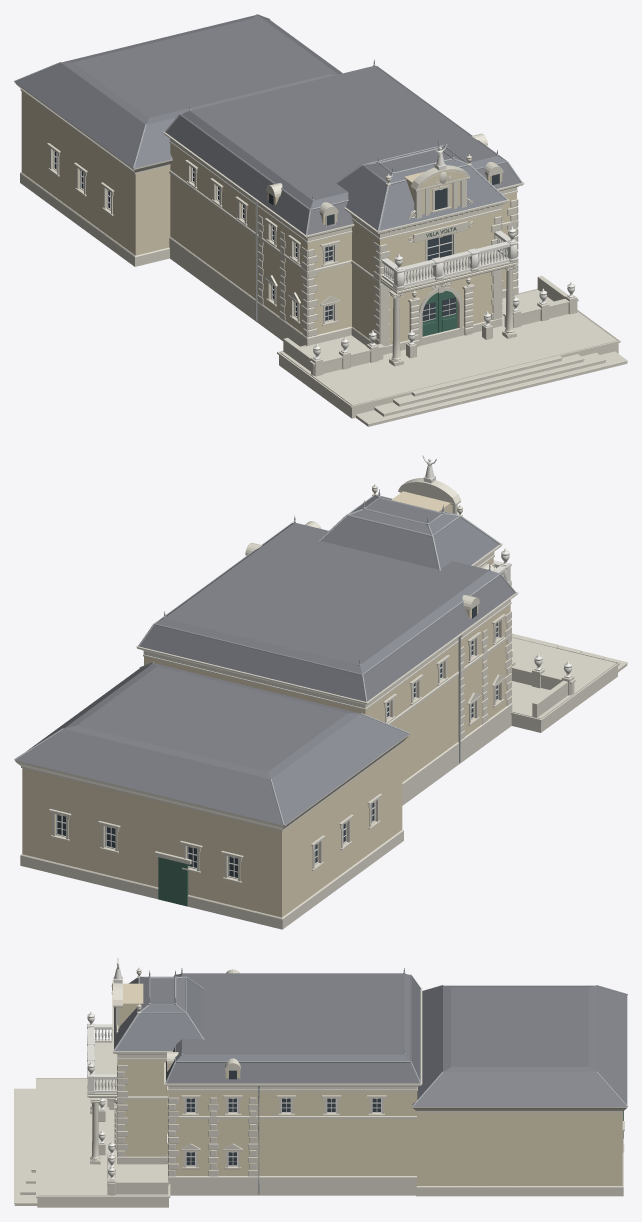
Rendered from AR_VillaVolta.fbx.
3 renders of one model, top to bottom at view 1: azimuth 30°, elevation 25°; view 2: azimuth 150°, elevation 25°; view 3: azimuth 270°, elevation 25°, orthographic. The views are drawn at different scales.
Parts seen in each view (by area): view 1: static__MAT_lei_0, static__MAT_steen_0, static__MAT_stuc_0, static__MAT_steen_2, static__MAT_steen_1, static__MAT_wit_1, static__MAT_zink_0, static__MAT_glas_0, static__MAT_kozijn_0, static__MAT_wit_0, static__MAT_groen_0; view 2: static__MAT_lei_0, static__MAT_stuc_0, static__MAT_steen_0, static__MAT_steen_2, static__MAT_steen_1, static__MAT_zink_0, static__MAT_groen_0, static__MAT_kozijn_0, static__MAT_glas_0; view 3: static__MAT_lei_0, static__MAT_stuc_0, static__MAT_steen_0, static__MAT_steen_2, static__MAT_zink_0, static__MAT_steen_1, static__MAT_wit_1, static__MAT_glas_0, static__MAT_kozijn_0, static__MAT_wit_0.
Part boxes in pixels (x1=…): static__MAT_lei_0: x1=15, y1=15, x2=520, y2=234; static__MAT_steen_0: x1=20, y1=170, x2=627, y2=426; static__MAT_stuc_0: x1=21, y1=91, x2=516, y2=344; static__MAT_steen_2: x1=15, y1=82, x2=524, y2=366; static__MAT_steen_1: x1=47, y1=143, x2=503, y2=347; static__MAT_wit_1: x1=381, y1=230, x2=517, y2=289; static__MAT_zink_0: x1=14, y1=14, x2=522, y2=320; static__MAT_glas_0: x1=54, y1=151, x2=499, y2=321; static__MAT_kozijn_0: x1=53, y1=151, x2=455, y2=322; static__MAT_wit_0: x1=313, y1=226, x2=574, y2=360; static__MAT_groen_0: x1=422, y1=291, x2=457, y2=336; static__MAT_lei_0: x1=15, y1=496, x2=514, y2=825; static__MAT_stuc_0: x1=22, y1=491, x2=510, y2=917; static__MAT_steen_0: x1=20, y1=562, x2=627, y2=929; static__MAT_steen_2: x1=15, y1=478, x2=518, y2=831; static__MAT_steen_1: x1=49, y1=614, x2=505, y2=883; static__MAT_zink_0: x1=14, y1=489, x2=516, y2=826; static__MAT_groen_0: x1=158, y1=857, x2=188, y2=906; static__MAT_kozijn_0: x1=56, y1=622, x2=498, y2=879; static__MAT_glas_0: x1=57, y1=606, x2=497, y2=877; static__MAT_lei_0: x1=114, y1=973, x2=627, y2=1106; static__MAT_stuc_0: x1=112, y1=980, x2=622, y2=1185; static__MAT_steen_0: x1=14, y1=1062, x2=623, y2=1207; static__MAT_steen_2: x1=87, y1=967, x2=626, y2=1164; static__MAT_zink_0: x1=113, y1=968, x2=627, y2=1194; static__MAT_steen_1: x1=111, y1=983, x2=624, y2=1169; static__MAT_wit_1: x1=87, y1=1023, x2=117, y2=1093; static__MAT_glas_0: x1=186, y1=1070, x2=380, y2=1165; static__MAT_kozijn_0: x1=186, y1=1098, x2=381, y2=1166; static__MAT_wit_0: x1=87, y1=1011, x2=115, y2=1180.
Size of the model in its own units: 18.01 by 14.92 by 37.97.
